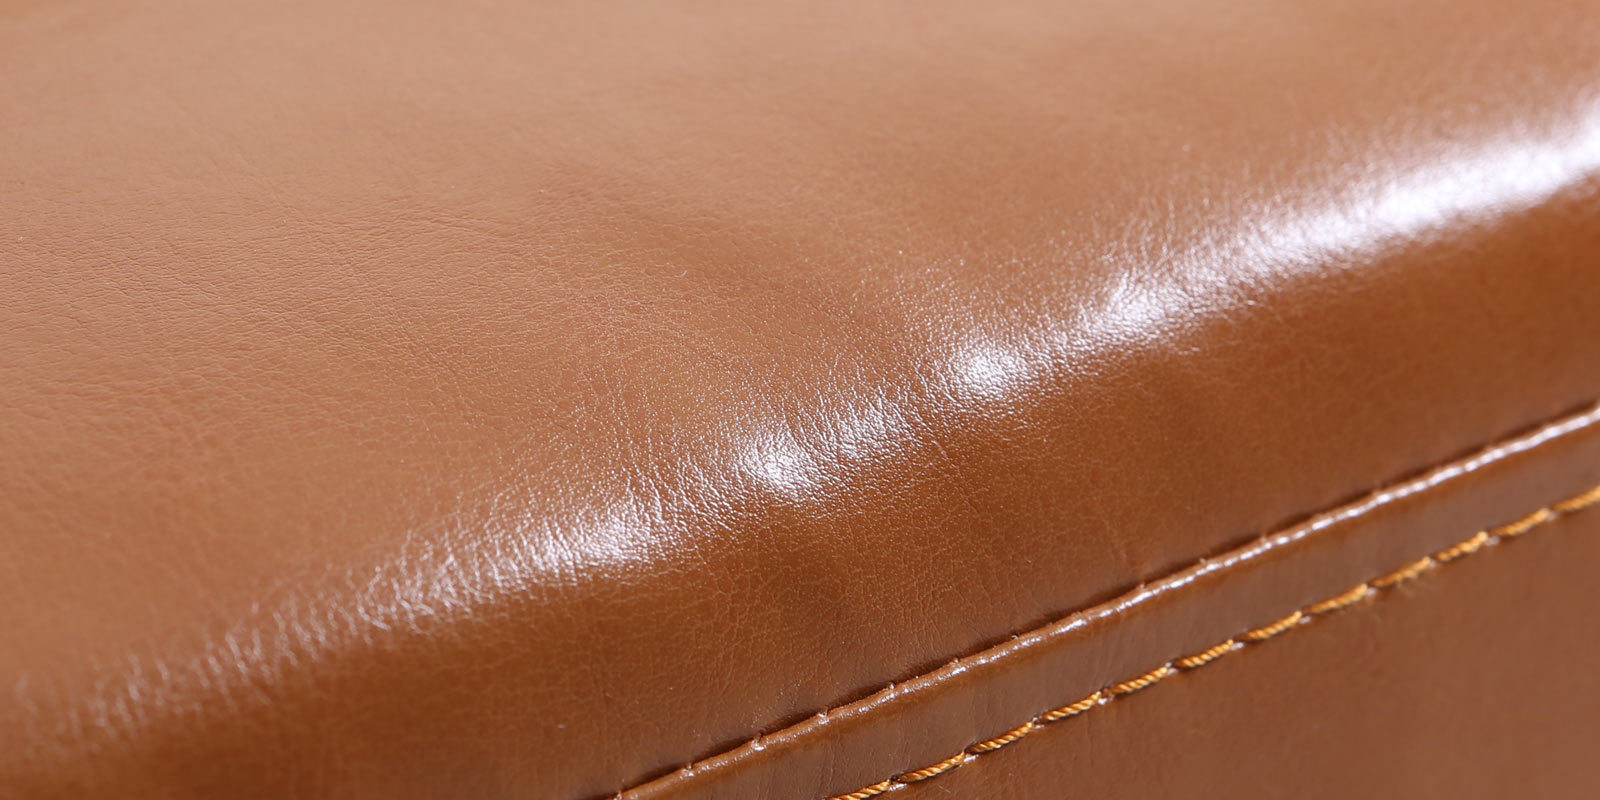Forma Three Seater Sofa in Camel Colour by Zofa: (8, 8, 1600, 799)
